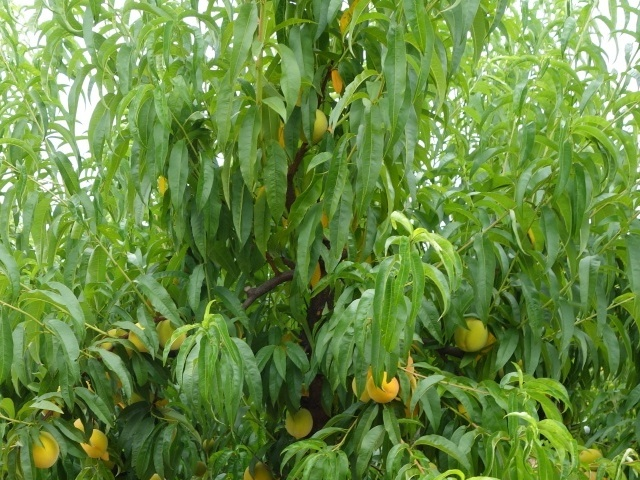peach: (449, 313, 490, 356), (23, 427, 63, 468), (74, 426, 115, 461), (120, 317, 155, 358), (153, 315, 187, 356), (280, 404, 316, 441), (363, 370, 401, 404), (304, 110, 335, 149), (348, 369, 377, 408), (577, 443, 606, 472), (239, 459, 275, 480)
